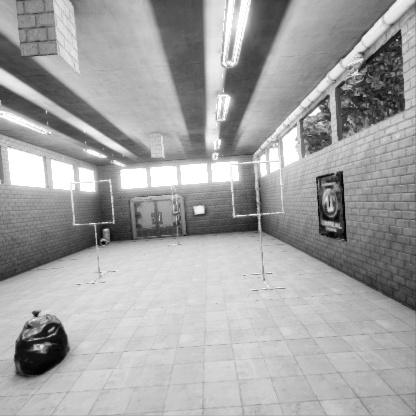gate: (231, 200, 289, 259), (73, 192, 119, 237), (171, 203, 177, 230)
